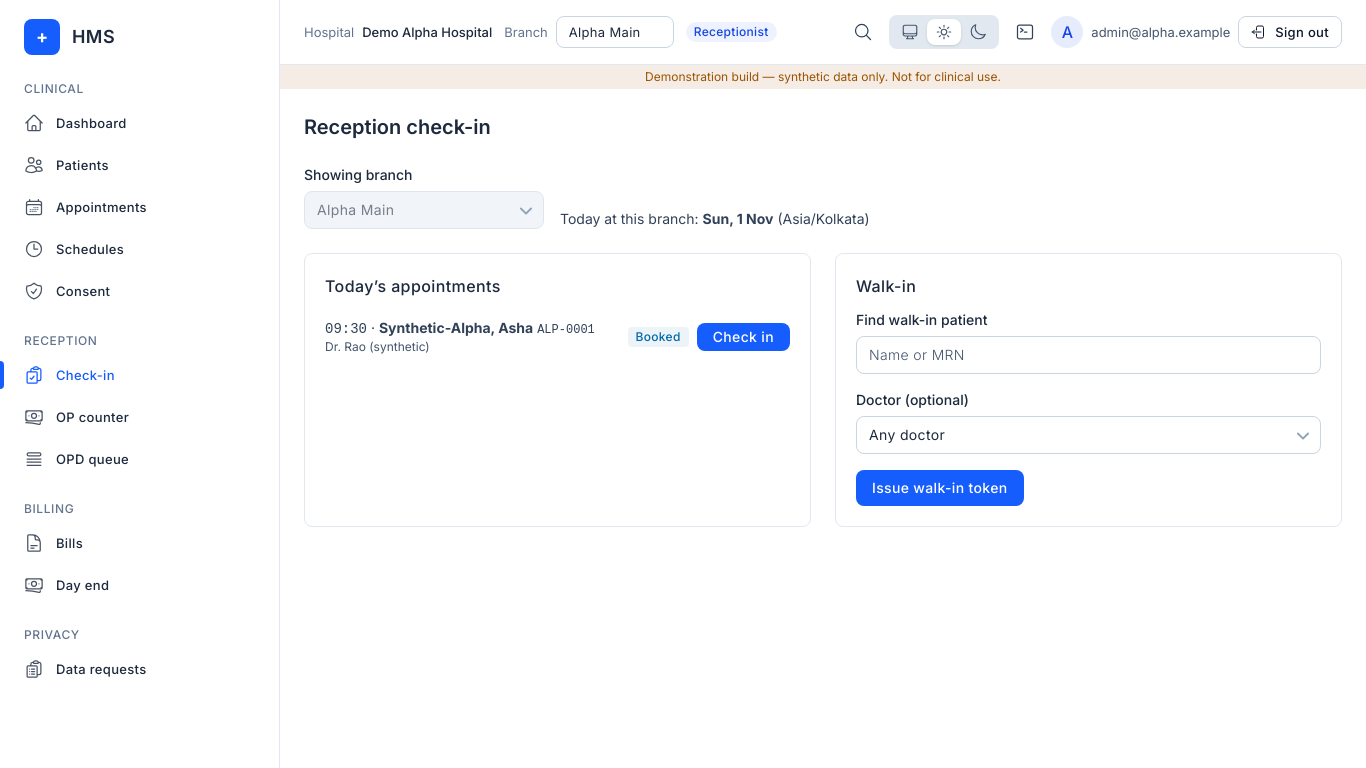
Test: check-in: per-row pending and Retry › a 503 on check-in shows Retry (never auto-retried); Retry issues the token
Expected: the list item with test id "checkin-appointment" shows "Synthetic-Alpha, Asha", [379,319,533,336]
Click the button "Check in" at (743, 336), box [697,322,790,350]
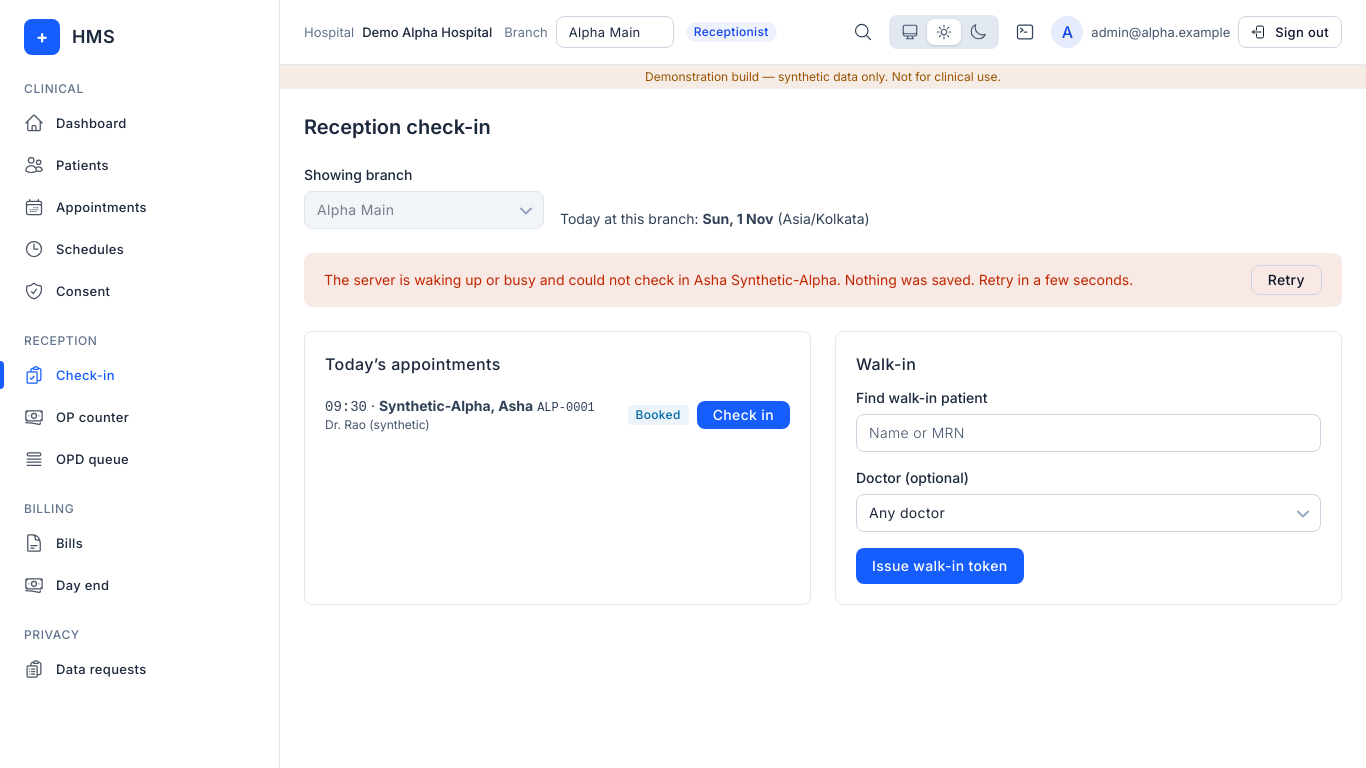
Expected: the message with test id "retry-alert" shows "Nothing was saved", [324,271,1133,288]
Click the button "Retry" at (1286, 280), box [1251,265,1322,295]
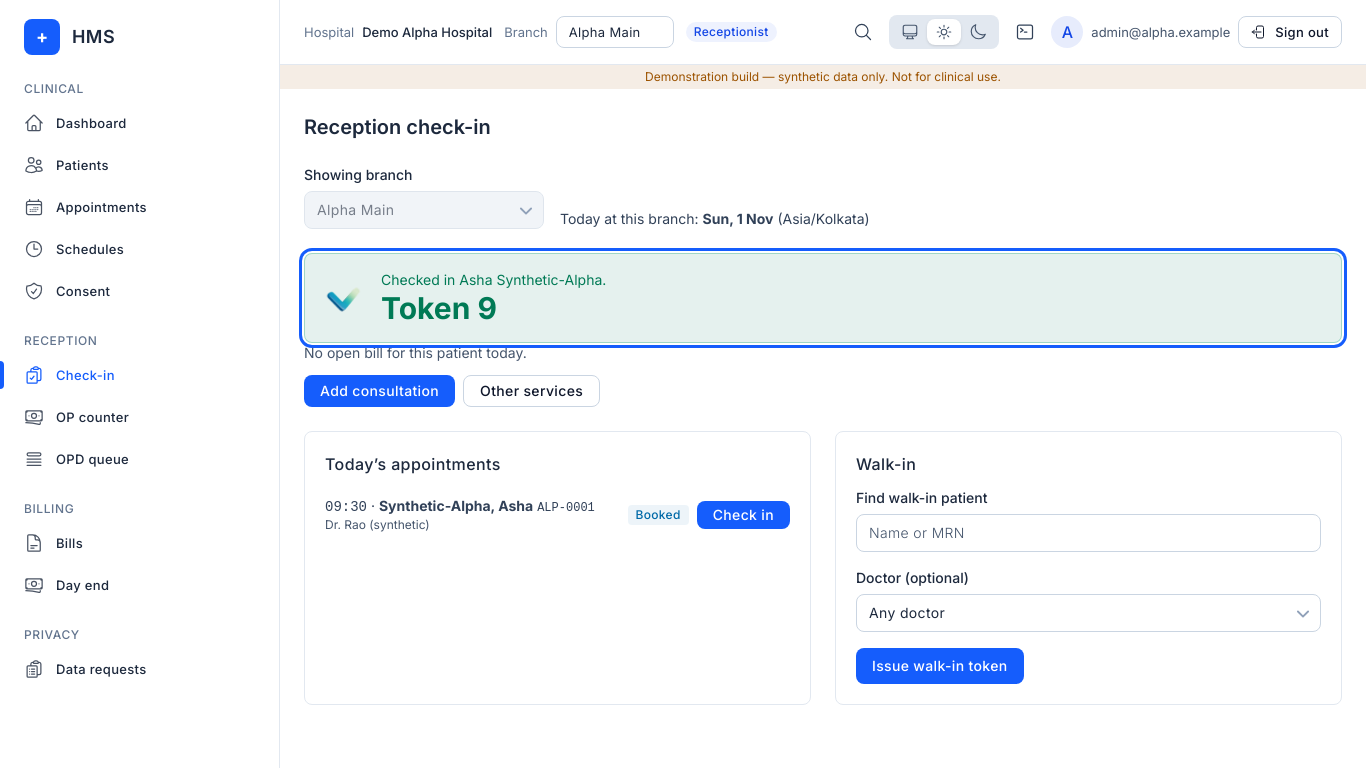
Expected: the text with test id "token-number" reads "9", [478,290,497,326]
Expected: the message with test id "retry-alert" is gone
